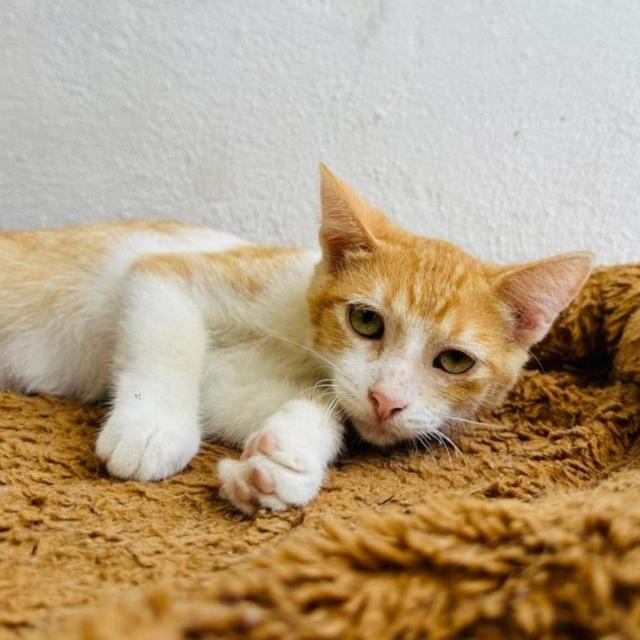american_shorthair_cat: (300, 158, 604, 462)
